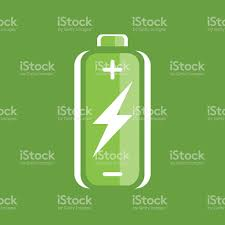charging sign: (64, 14, 166, 200)
